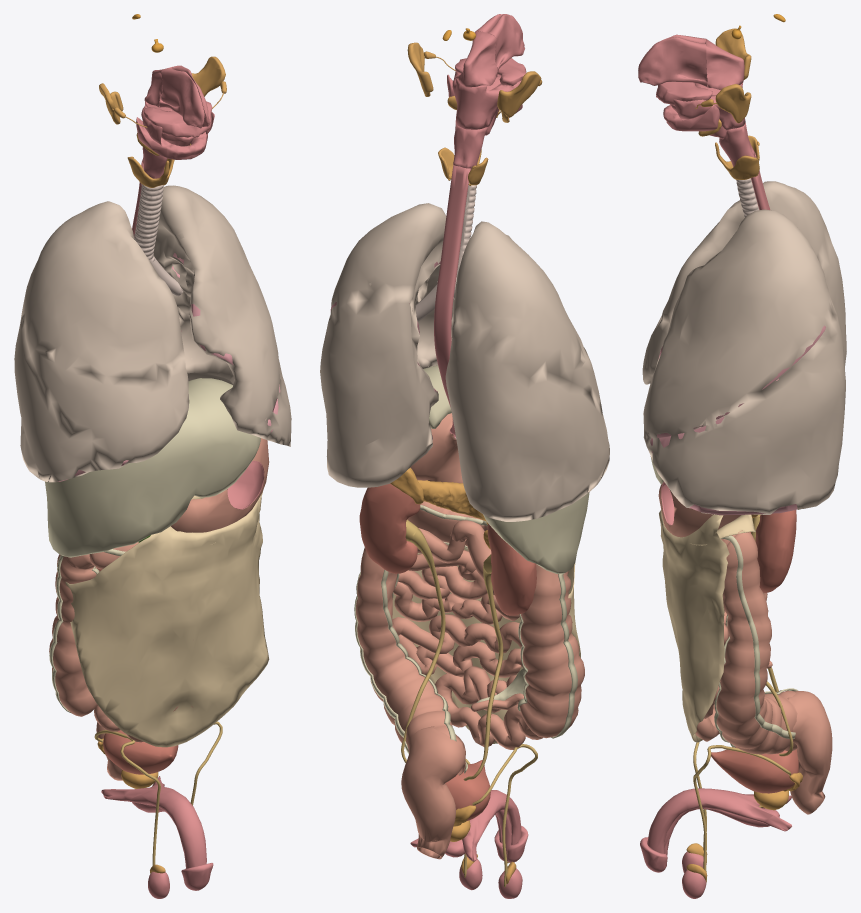
The model's file is visceral.glb.
3 views of the same model, side by side, from view 1: azimuth 30°, elevation 25°; view 2: azimuth 150°, elevation 25°; view 3: azimuth 270°, elevation 25° (orthographic). The views are drawn at different scales.
Visible parts, largest first — view 1: Pleura.001, Greater omentum.001, Liver.001, Ascending colon.001, Corpus cavernosum of penis.001, Stomach.001, Gingiva.001, Mucosa of nasal cavity.001, Urinary bladder.001, Trachea.001, Mucosa of stomach.001, Parotid gland.l.001 (+4 smaller); view 2: Pleura.001, Jejunum.001, Ascending colon.001, Descending colon.001, Sigmoid colon.001, Liver.001, Kidney.l.001, Oesophagus.001, Kidney.r.001, Stomach.001, Greater omentum.001, Oropharynx.001 (+20 smaller); view 3: Pleura.001, Greater omentum.001, Descending colon.001, Sigmoid colon.001, Corpus cavernosum of penis.001, Mucosa of nasal cavity.001, Kidney.l.001, Urinary bladder.001, Gingiva.001, Mesocolic taenia.001, Nasopharynx.001, Stomach.001 (+14 smaller).
Part boxes in pixels (x1,y1,x2,y2): Pleura.001: [14, 185, 291, 482]; Greater omentum.001: [65, 494, 269, 747]; Liver.001: [45, 378, 260, 557]; Ascending colon.001: [49, 554, 97, 716]; Corpus cavernosum of penis.001: [101, 776, 206, 868]; Stomach.001: [171, 438, 269, 532]; Gingiva.001: [136, 101, 212, 159]; Mucosa of nasal cavity.001: [159, 65, 210, 128]; Urinary bladder.001: [103, 730, 178, 774]; Trachea.001: [134, 184, 163, 261]; Mucosa of stomach.001: [227, 461, 264, 509]; Parotid gland.l.001: [191, 56, 225, 96]; Pleura.001: [320, 203, 609, 521]; Jejunum.001: [392, 528, 542, 749]; Ascending colon.001: [520, 564, 584, 738]; Descending colon.001: [356, 548, 465, 775]; Sigmoid colon.001: [401, 726, 465, 859]; Liver.001: [423, 365, 589, 573]; Kidney.l.001: [359, 483, 420, 573]; Oesophagus.001: [434, 165, 470, 437]; Kidney.r.001: [487, 524, 536, 615]; Stomach.001: [410, 413, 462, 483]; Greater omentum.001: [392, 544, 580, 743]; Oropharynx.001: [452, 71, 521, 129]; Pleura.001: [642, 181, 846, 514]; Greater omentum.001: [659, 510, 729, 742]; Descending colon.001: [716, 530, 797, 754]; Sigmoid colon.001: [787, 691, 832, 814]; Corpus cavernosum of penis.001: [647, 788, 791, 853]; Mucosa of nasal cavity.001: [638, 34, 707, 86]; Kidney.l.001: [755, 510, 796, 592]; Urinary bladder.001: [711, 747, 798, 793]; Gingiva.001: [656, 81, 719, 131]; Mesocolic taenia.001: [721, 535, 795, 739]; Nasopharynx.001: [706, 39, 744, 89]; Stomach.001: [658, 483, 741, 537].
Bounding box in the file's own units: 0.264 × 0.8931 × 0.1931.
